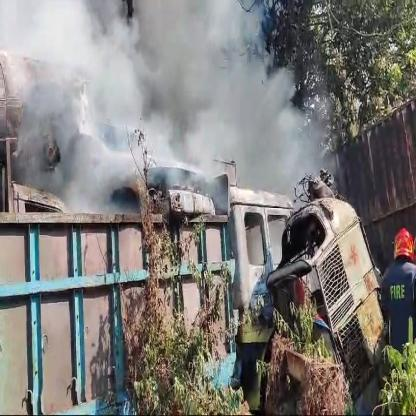Smoke: (0, 0, 337, 205)
